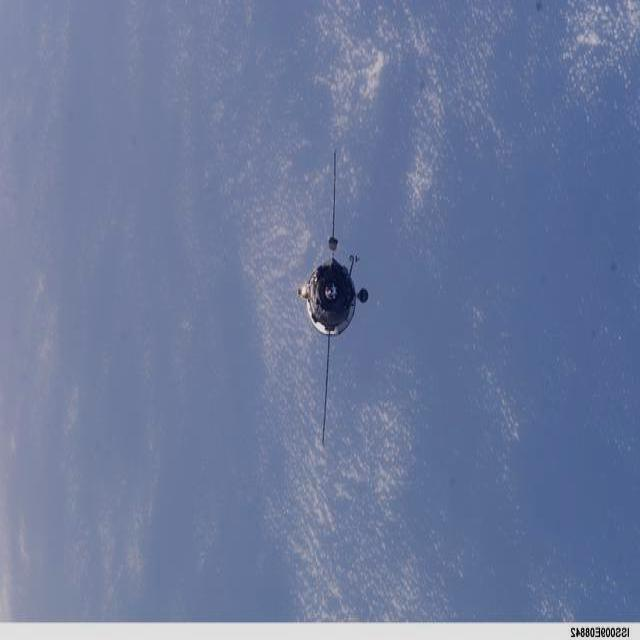medium_debris: (291, 142, 379, 478)
